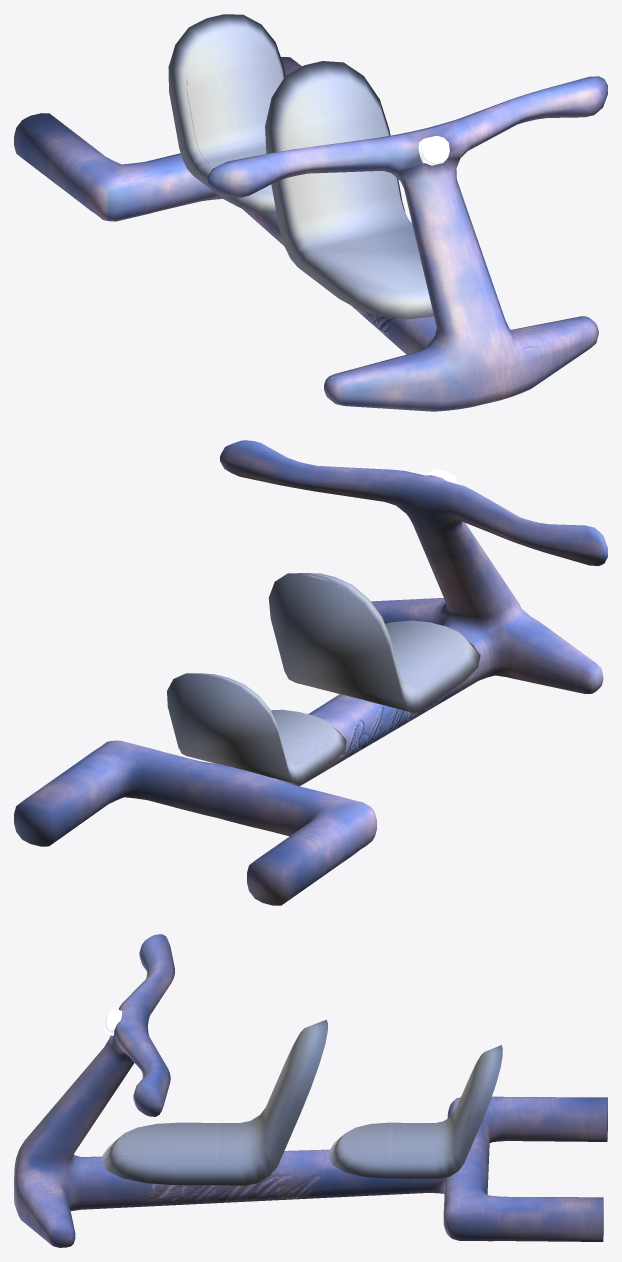
The model's file is Vehicle.glb.
3 views of the same model, one above another, from view 1: azimuth 30°, elevation 25°; view 2: azimuth 150°, elevation 25°; view 3: azimuth 270°, elevation 25° (orthographic). The views are drawn at different scales.
Visible parts, largest first — view 1: 立方体.003, 立方体.005, 立方体.004; view 2: 立方体.003, 立方体.005, 立方体.004; view 3: 立方体.003, 立方体.005, 立方体.004.
Boxes of the visible parts, x1,y1,x2,y2 form: 立方体.003: (14, 57, 607, 411); 立方体.005: (265, 61, 433, 319); 立方体.004: (168, 14, 285, 213); 立方体.003: (14, 440, 607, 905); 立方体.005: (268, 573, 480, 712); 立方体.004: (167, 673, 346, 784); 立方体.003: (14, 934, 607, 1247); 立方体.005: (102, 1019, 327, 1185); 立方体.004: (329, 1045, 502, 1178).
Size of what is drawn, in the model's own units: 2.46 by 1.37 by 3.71.
2 materials, 2 textured.
